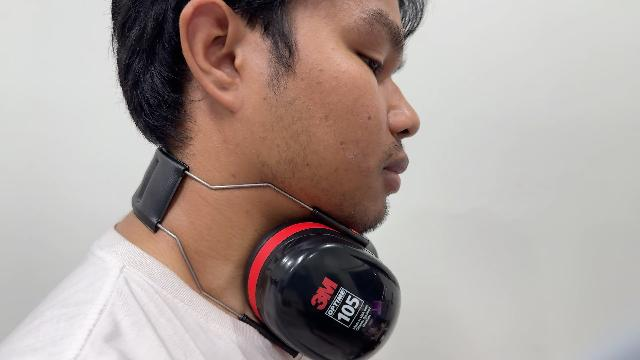headphones: (132, 149, 400, 359)
right_ear: (174, 0, 254, 112)
